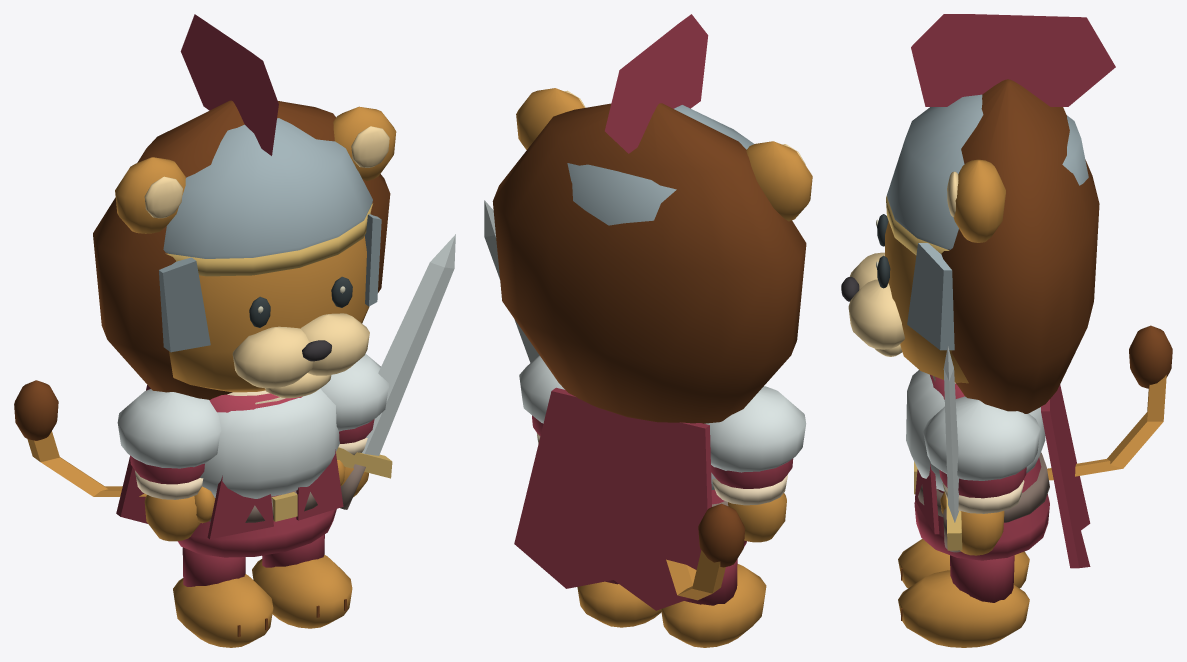
File: knight.glb
The picture shows the model from 3 angles, left to right: view 1: azimuth 30°, elevation 25°; view 2: azimuth 150°, elevation 25°; view 3: azimuth 270°, elevation 25°; orthographic projection. The views are drawn at different scales.
Visible parts, largest first — view 1: Regional helmet, Lion full mane, Animal cheek head, Rounded breastplate, Roman horsehair fan, Big shoulder armour, Soft animal paw, Shaped bevel sword, Soft animal paw.001, Short folded tunic, Lion muzzle, Roman cheekplate (+21 smaller); view 2: Lion full mane, Short scalloped cape, Roman horsehair fan, Big shoulder armour, Regional helmet, Soft animal paw, Lion round ear, Soft animal paw.001, Lion tail tuft, Lion round ear.001, Curved animal tail, Little mitten (+5 smaller); view 3: Lion full mane, Roman horsehair fan, Regional helmet, Big shoulder armour.001, Soft animal paw.001, Short scalloped cape, Roman cheekplate.001, Animal cheek head, Short folded tunic, Lion round ear.001, Rounded breastplate, Lion muzzle.001 (+13 smaller).
Boxes of the visible parts, bbox=[...] form: Regional helmet: bbox=[163, 118, 372, 258]; Lion full mane: bbox=[93, 100, 390, 399]; Animal cheek head: bbox=[169, 236, 369, 392]; Rounded breastplate: bbox=[199, 388, 339, 498]; Roman horsehair fan: bbox=[180, 14, 278, 155]; Big shoulder armour: bbox=[117, 389, 221, 468]; Soft animal paw: bbox=[173, 574, 273, 647]; Shaped bevel sword: bbox=[362, 234, 455, 455]; Soft animal paw.001: bbox=[252, 555, 352, 628]; Short folded tunic: bbox=[178, 393, 336, 557]; Lion muzzle: bbox=[232, 326, 312, 388]; Roman cheekplate: bbox=[159, 257, 210, 352]; Lion full mane: bbox=[492, 103, 806, 423]; Short scalloped cape: bbox=[514, 387, 711, 610]; Roman horsehair fan: bbox=[605, 14, 708, 153]; Big shoulder armour: bbox=[704, 386, 806, 472]; Regional helmet: bbox=[567, 105, 753, 225]; Soft animal paw: bbox=[661, 564, 766, 647]; Lion round ear: bbox=[746, 141, 812, 221]; Soft animal paw.001: bbox=[577, 581, 661, 627]; Lion tail tuft: bbox=[698, 503, 745, 567]; Lion round ear.001: bbox=[516, 88, 584, 149]; Curved animal tail: bbox=[666, 550, 725, 600]; Little mitten: bbox=[728, 493, 786, 542]; Lion full mane: bbox=[941, 79, 1099, 413]; Roman horsehair fan: bbox=[911, 14, 1115, 106]; Regional helmet: bbox=[887, 94, 1088, 249]; Big shoulder armour.001: bbox=[923, 396, 1040, 480]; Soft animal paw.001: bbox=[898, 570, 1029, 647]; Short scalloped cape: bbox=[1041, 384, 1090, 568]; Roman cheekplate.001: bbox=[907, 243, 954, 350]; Animal cheek head: bbox=[885, 221, 968, 383]; Short folded tunic: bbox=[914, 374, 1049, 560]; Lion round ear.001: bbox=[953, 159, 1005, 242]; Rounded breastplate: bbox=[906, 370, 1045, 491]; Lion muzzle.001: bbox=[848, 279, 904, 349].
Bounding box in the file's own units: 1.13 × 1.82 × 0.905.
